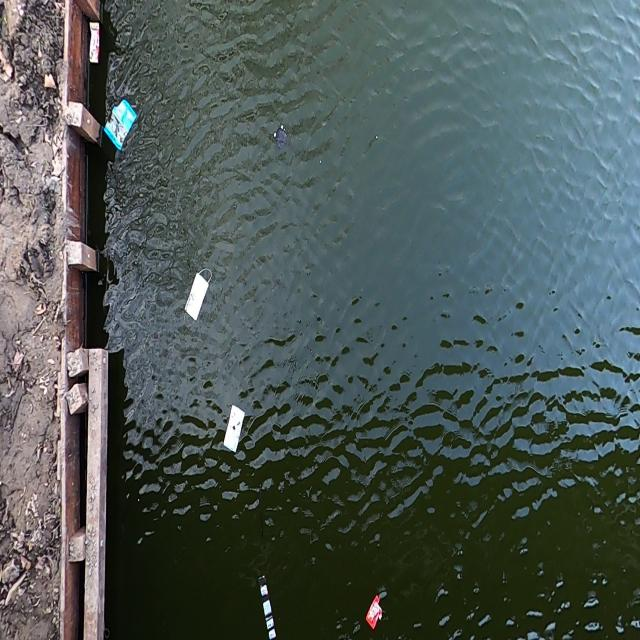Autre plastique: (101, 96, 138, 156), (363, 589, 388, 630), (87, 20, 101, 67)
Non plastique: (180, 259, 216, 330)
